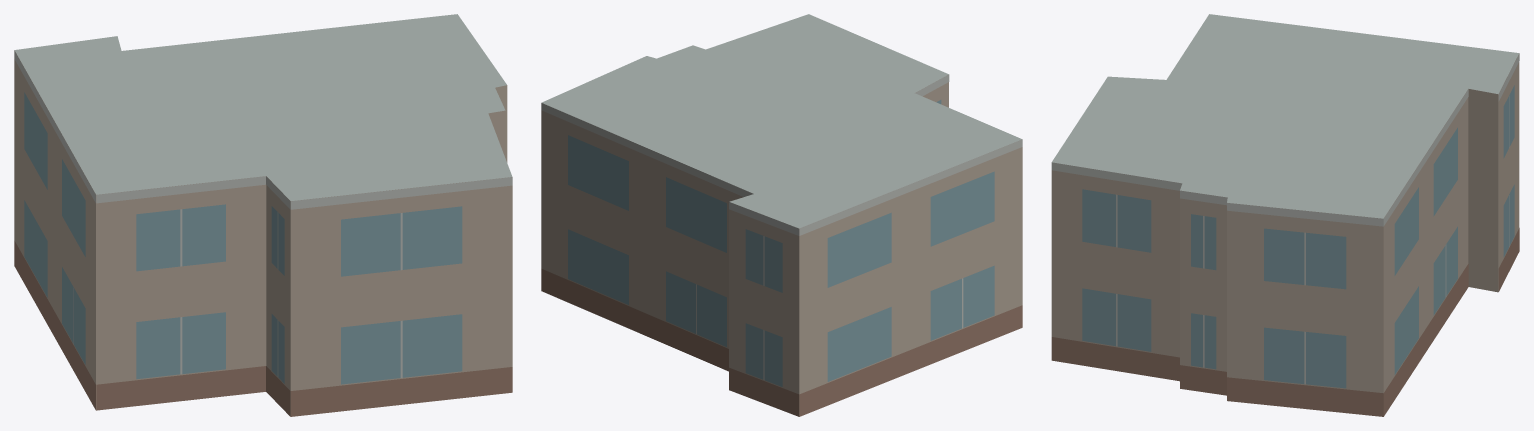
The model's file is survey-upis-32649526.glb.
3 views of the same model, side by side, from view 1: azimuth 30°, elevation 25°; view 2: azimuth 150°, elevation 25°; view 3: azimuth 270°, elevation 25° (orthographic). The views are drawn at different scales.
Parts seen in each view (by area): view 1: survey-upis-32649526.tmp; view 2: survey-upis-32649526.tmp; view 3: survey-upis-32649526.tmp.
Part boxes in pixels (left/top/right/bottom): survey-upis-32649526.tmp: left=14, top=14, right=512, bottom=416; survey-upis-32649526.tmp: left=541, top=14, right=1022, bottom=416; survey-upis-32649526.tmp: left=1051, top=14, right=1519, bottom=416.
Bounding box in the file's own units: 13.52 × 6.1 × 13.06.
